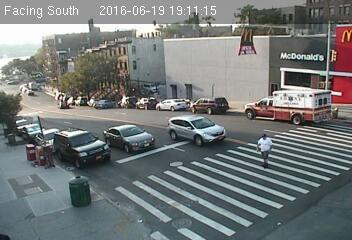neg: (33, 128, 57, 159)
pos: (249, 131, 278, 170)
